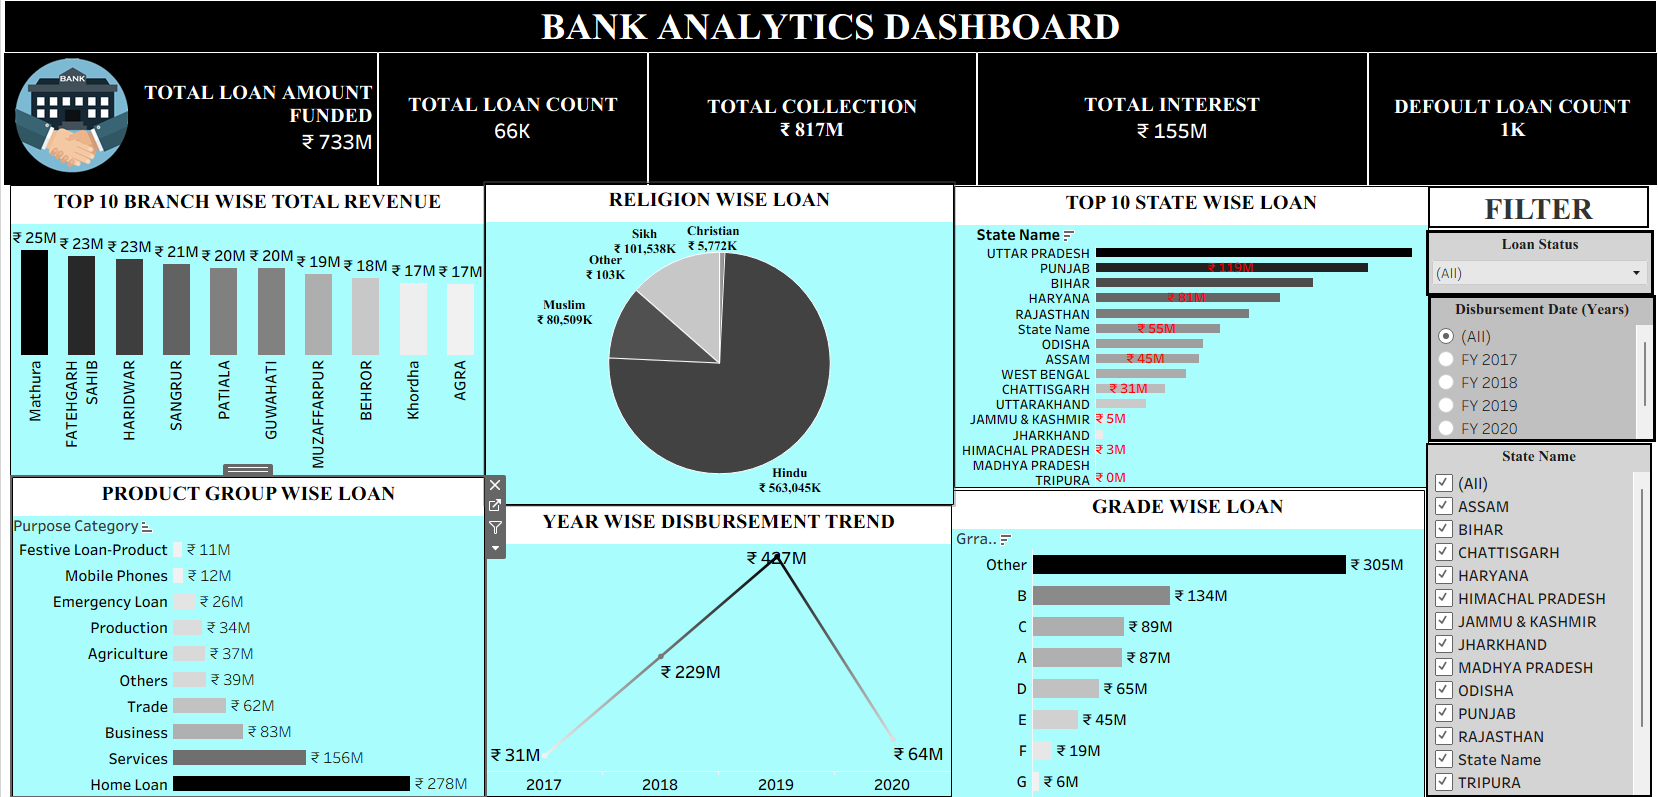

What the dashboard file says about the page in this screenshot:
{"tool":"tableau","page":{"name":"Dashboard 1","canvas":[1000,1000],"units":"permille","ordinal":0},"visuals":[{"type":"text","box":[1.3,3.8,998.7,69.9]},{"type":"worksheet","title":"TOTAL LOAN AMOUNT FUNDED ","mark":"Automatic","box":[1.3,69.9,226.3,167.3]},{"type":"worksheet","title":"TOTAL LOAN COUNT","mark":"Automatic","box":[227.6,69.9,163,167.3]},{"type":"worksheet","title":"TOTAL COLLECTION","mark":"Automatic","box":[390.6,69.9,198.6,167.3]},{"type":"worksheet","title":"TOTAL INTEREST","mark":"Automatic","box":[589.1,69.9,236,167.3]},{"type":"worksheet","title":"DEFOULT LOAN COUNT","mark":"Automatic","box":[825.1,69.9,174.9,167.3]},{"type":"image","param":"Image/Bank-Transparent-File.png","box":[4,77.4,77.5,152.3]},{"type":"worksheet","title":"RELIGION WISE LOAN","mark":"Pie","box":[292.1,233.5,283,402]},{"type":"worksheet","title":"TOP 10 BRANCH WISE TOTAL REVENUE","mark":"Automatic","rows":["Calculation_159033404273258502"],"cols":["Branch Name"],"box":[5.4,236,286.7,363.3]},{"type":"worksheet","title":"TOP 10 STATE WISE LOAN","mark":"Automatic","rows":["State Name"],"cols":["Loan Amount"],"box":[575.1,237.2,286.7,377]},{"type":"worksheet","title":"FILTER","mark":"Automatic","box":[861.2,237.2,133.4,52.4]},{"type":"filter","title":"FILTER","param":"[federated.0f336cr0sd09jp13tz2ca1alb603].[none:Loan Status:nk]","box":[860.3,292.1,137.8,82.4]},{"type":"filter","title":"FILTER","param":"[federated.0f336cr0sd09jp13tz2ca1alb603].[none:Disbursement Date (Years):nk]","box":[860.9,373.3,137.8,183.5]},{"type":"filter","title":"FILTER","param":"[federated.0f336cr0sd09jp13tz2ca1alb603].[none:State Name:nk]","box":[860.3,558.1,136.4,441.9]},{"type":"worksheet","title":"PRODUCT GROUP WISE LOAN","mark":"Automatic","rows":["Purpose Category"],"cols":["Loan Amount"],"box":[6.5,600.5,285.3,400.8]},{"type":"worksheet","title":"GRADE WISE LOAN","mark":"Automatic","rows":["Grrade"],"cols":["Loan Amount"],"box":[573.3,616.7,286.1,384.5]},{"type":"worksheet","title":"YEAR WISE DISBURSEMENT TREND","mark":"Line","rows":["Loan Amount"],"cols":["Disbursement Year"],"box":[292.1,635.5,281.8,364.5]}]}

Visuals, with their boxes on the dashboard's canvas, which has no fixed pixel size, in thousandths of its width and height (x1, y1, x2, y2). These are canvas units, not pixel positions in the 1658x797 screenshot, which may show the page scaled, cropped or inside an application window:
text: detection(1, 4, 1000, 74)
"TOTAL LOAN AMOUNT FUNDED " worksheet: detection(1, 70, 228, 237)
"TOTAL LOAN COUNT" worksheet: detection(228, 70, 391, 237)
"TOTAL COLLECTION" worksheet: detection(391, 70, 589, 237)
"TOTAL INTEREST" worksheet: detection(589, 70, 825, 237)
"DEFOULT LOAN COUNT" worksheet: detection(825, 70, 1000, 237)
image: detection(4, 77, 82, 230)
"RELIGION WISE LOAN" worksheet (Pie marks): detection(292, 234, 575, 636)
"TOP 10 BRANCH WISE TOTAL REVENUE" worksheet: detection(5, 236, 292, 599)
"TOP 10 STATE WISE LOAN" worksheet: detection(575, 237, 862, 614)
"FILTER" worksheet: detection(861, 237, 995, 290)
"FILTER" filter: detection(860, 292, 998, 374)
"FILTER" filter: detection(861, 373, 999, 557)
"FILTER" filter: detection(860, 558, 997, 1000)
"PRODUCT GROUP WISE LOAN" worksheet: detection(6, 600, 292, 1001)
"GRADE WISE LOAN" worksheet: detection(573, 617, 859, 1001)
"YEAR WISE DISBURSEMENT TREND" worksheet (Line marks): detection(292, 636, 574, 1000)
